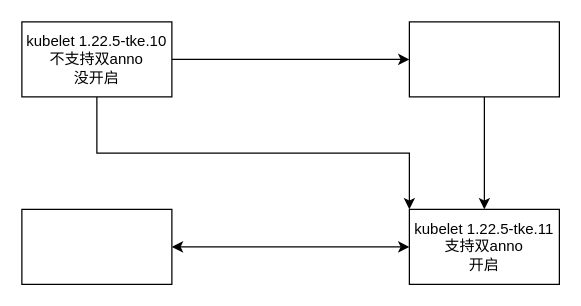
The diagram is 581 pixels wide and 306 high, and some of its shapes have lost their labels. Here are the shapes that lost their labels. From the top down, the centre of each, then its label:
At (x=483, y=59): "kubelet 1.22.5-tke.10 不支持双anno 开启".
At (x=96, y=246): "kubelet 1.22.5-tke.11 支持双anno 没开启".
